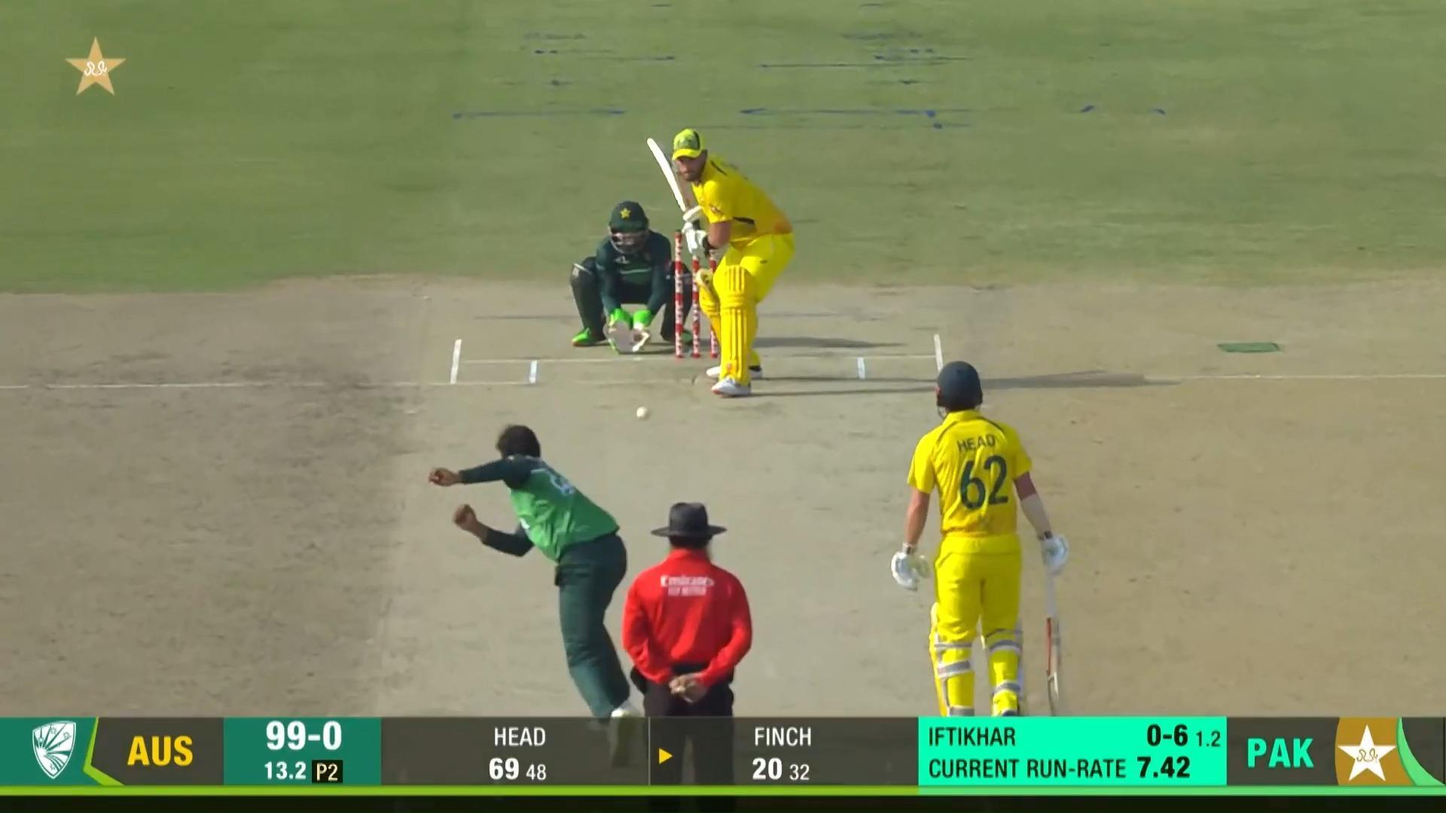BM 1: (646, 125, 799, 399)
BO: (427, 422, 637, 757)
